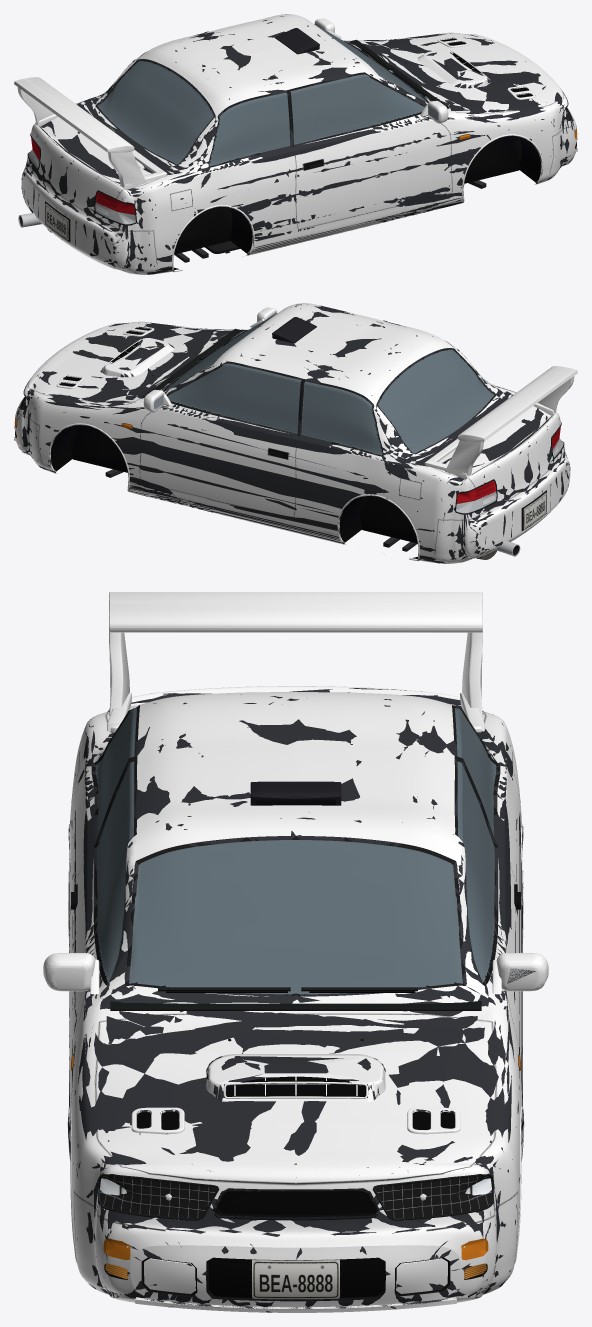
3 views of the same model, one above another, from view 1: azimuth 30°, elevation 25°; view 2: azimuth 150°, elevation 25°; view 3: azimuth 270°, elevation 25° (orthographic). The views are drawn at different scales.
Parts seen in each view (by area): view 1: body_paint, body_inside, body_glass, body_dark, wing_paint, body_trim, body_tail, body_under, body_plate; view 2: body_paint, body_inside, body_glass, body_dark, wing_paint, body_trim, body_tail, body_plate, body_under; view 3: body_paint, body_glass, body_inside, wing_paint, body_trim, body_lens, body_dark, body_plate, body_netF, body_net, body_netF2, body_amber.
Part boxes in pixels (box(x1,y1,x2,y2)): body_paint: box(21, 14, 577, 274); body_inside: box(21, 16, 577, 274); body_glass: box(97, 24, 427, 166); body_dark: box(19, 49, 577, 269); wing_paint: box(14, 77, 167, 189); body_trim: box(27, 28, 576, 225); body_tail: box(28, 137, 135, 224); body_under: box(47, 180, 486, 262); body_plate: box(45, 203, 68, 240); body_paint: box(14, 303, 570, 563); body_inside: box(14, 304, 570, 563); body_glass: box(165, 313, 494, 455); body_dark: box(14, 336, 546, 558); wing_paint: box(424, 366, 577, 478); body_trim: box(15, 317, 564, 514); body_tail: box(456, 426, 563, 513); body_plate: box(523, 492, 546, 529); body_under: box(105, 469, 496, 559); body_paint: box(43, 686, 548, 1312); body_glass: box(95, 708, 496, 994); body_inside: box(68, 688, 535, 1312); wing_paint: box(107, 592, 484, 732); body_trim: box(71, 705, 520, 1279); body_lens: box(99, 1176, 492, 1218); body_dark: box(74, 799, 517, 1301); body_plate: box(252, 1259, 339, 1299); body_netF: box(218, 1191, 373, 1215); body_net: box(209, 1257, 382, 1297); body_netF2: box(137, 1111, 454, 1129); body_amber: box(71, 1055, 520, 1260).
Size of the model in its own units: 4.36 by 1.32 by 1.91.
Materials: 22 (10 with a texture image).
